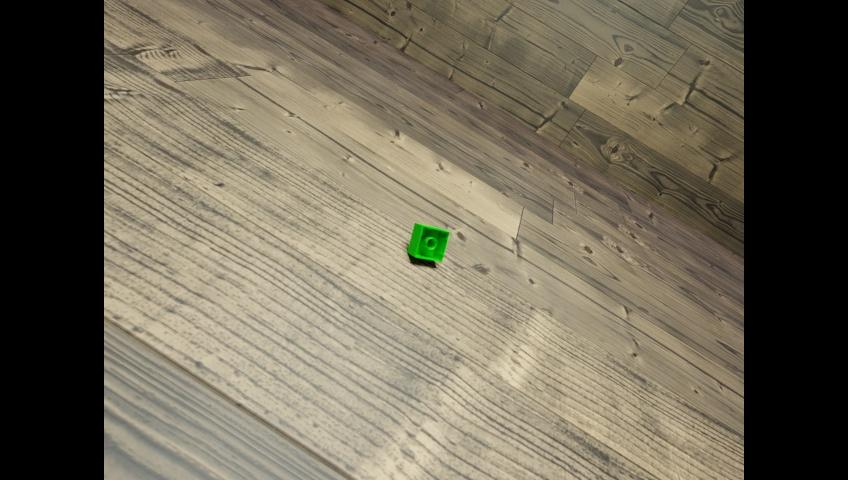2x2_green: (407, 222, 449, 261)
